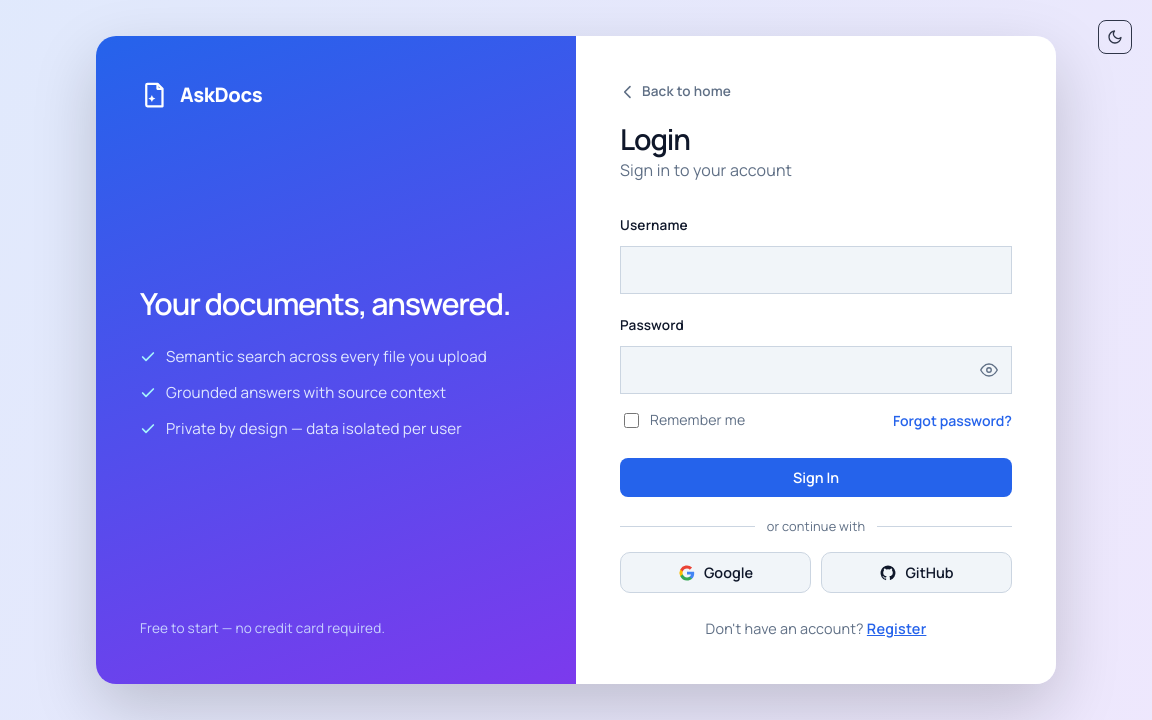
LoginPage › surfaces a friendly message when login fails
Step 1. Type "alice" into the field labelled "Username" → point(816, 270), box [620,246,1012,294]
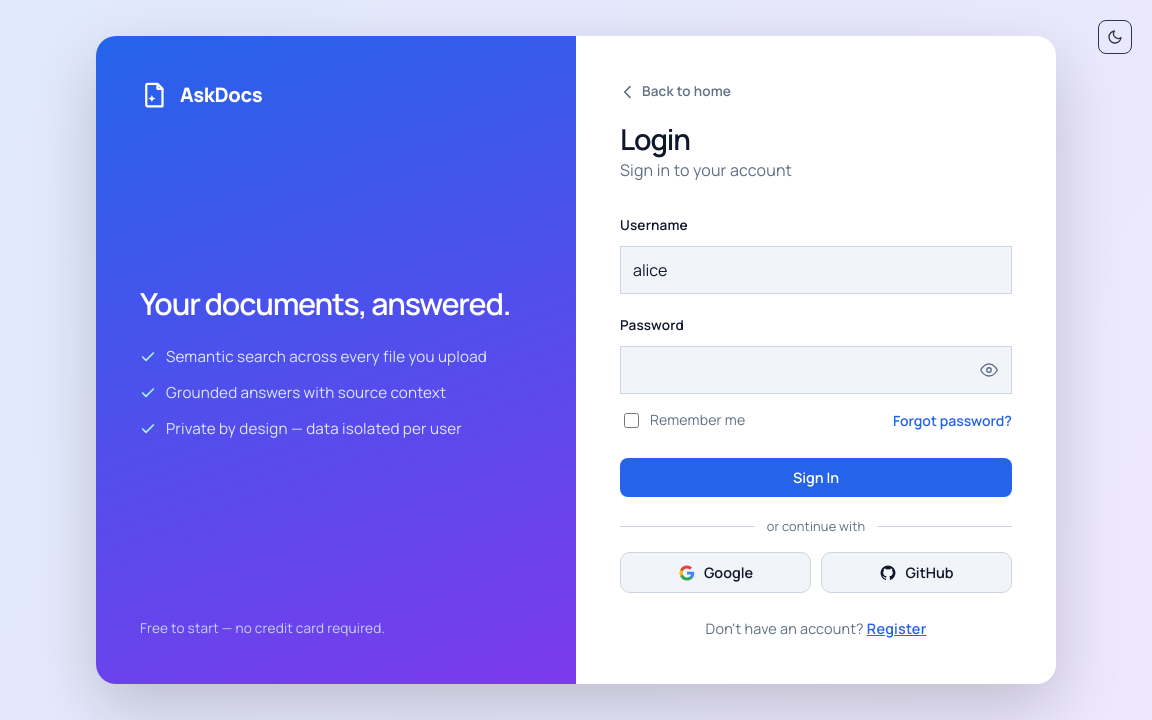
Step 2. Type "wrong" into the password field labelled "Password" → point(816, 370), box [620,346,1012,394]
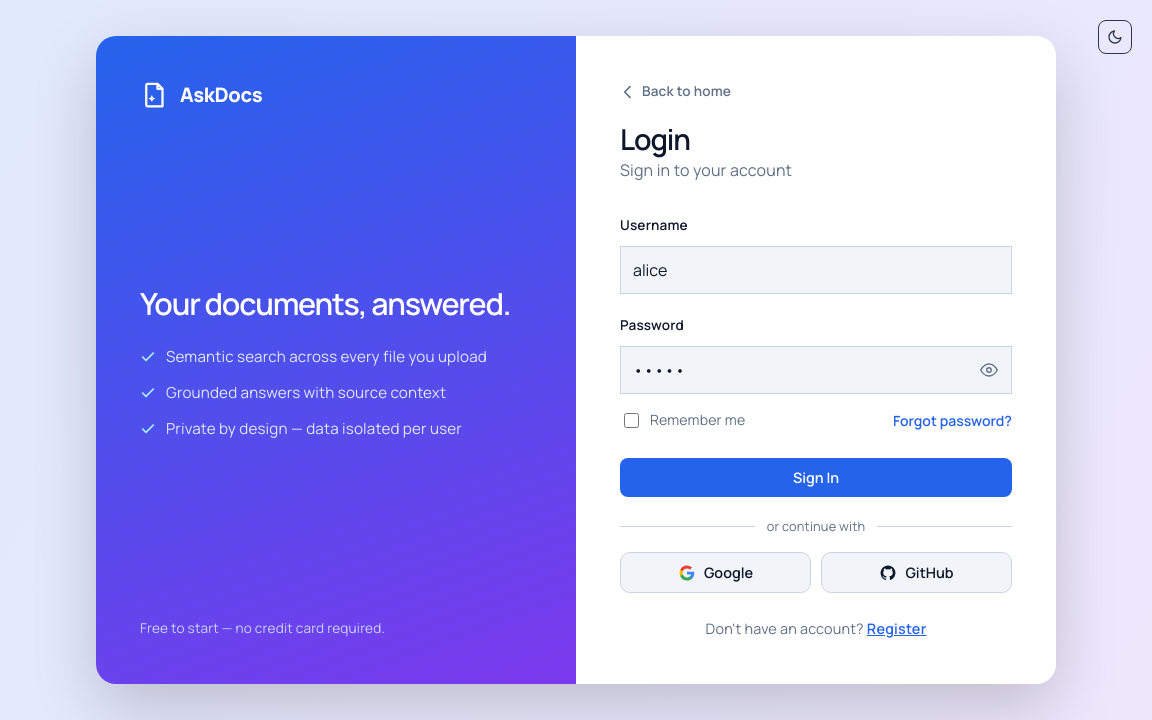
Step 3. Click the button "Sign In" → point(816, 478), box [620,458,1012,497]
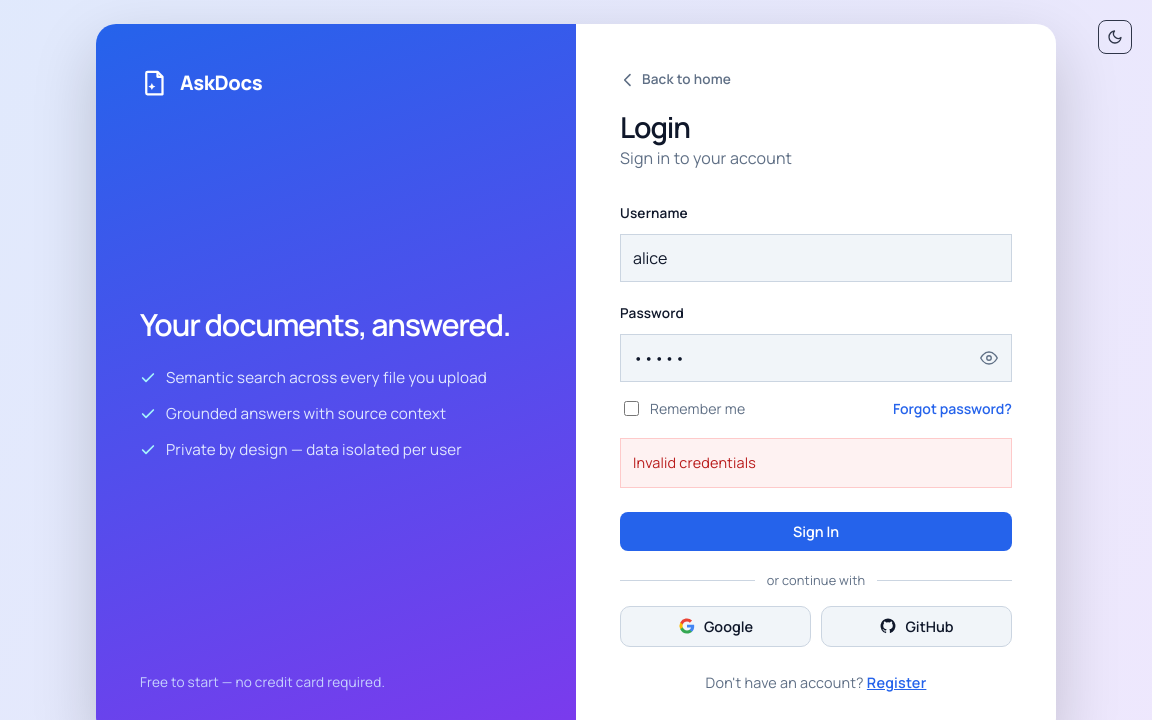
Expected: the text "Invalid credentials" is shown, [620,438,1012,488]
